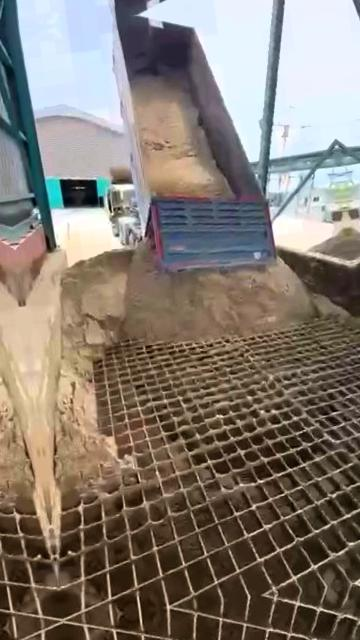sand: (56, 243, 313, 492), (132, 70, 233, 197), (314, 227, 352, 259), (313, 295, 350, 317)
